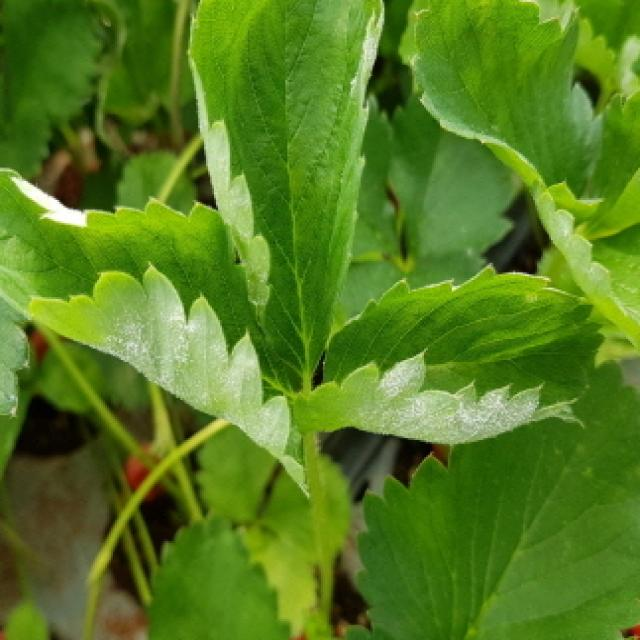Powdery Mildew Leaf: (0, 168, 311, 501), (185, 0, 385, 388), (295, 260, 609, 445)
